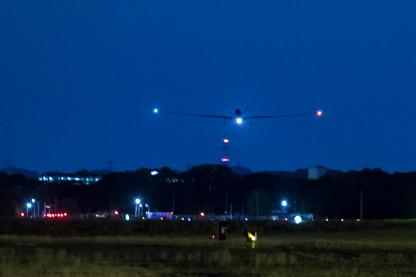P3: (153, 103, 321, 124)
